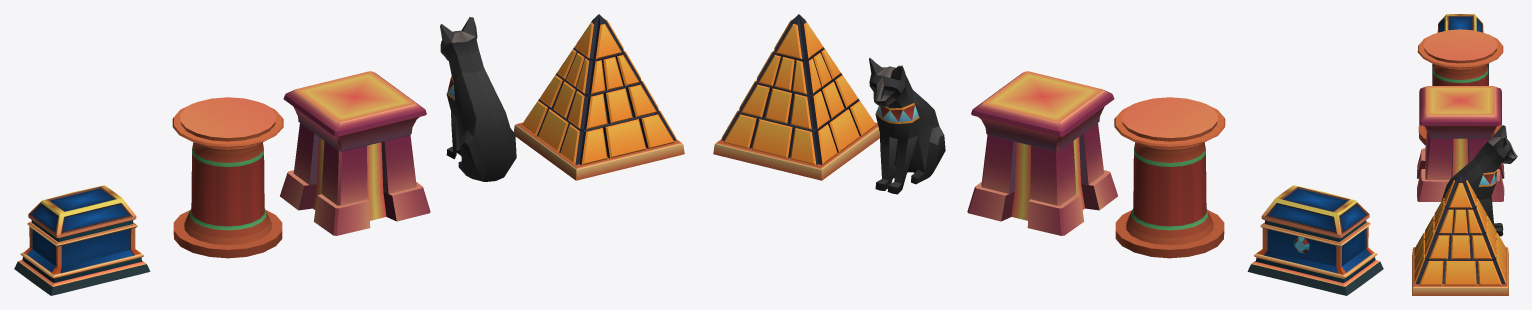
File: End_t2_a1.fbx
3 renders of one model, left to right at view 1: azimuth 30°, elevation 25°; view 2: azimuth 150°, elevation 25°; view 3: azimuth 270°, elevation 25°, orthographic. The views are drawn at different scales.
Visible parts, largest first — view 1: End_t2_a1_v5, End_t2_a1_v4, End_t2_a1_v3, End_t2_a1_v2, End_t2_a1_v1; view 2: End_t2_a1_v5, End_t2_a1_v4, End_t2_a1_v3, End_t2_a1_v2, End_t2_a1_v1; view 3: End_t2_a1_v4, End_t2_a1_v5, End_t2_a1_v3, End_t2_a1_v1, End_t2_a1_v2.
Part boxes in pixels (x1,y1,x2,y2): End_t2_a1_v5: (280, 71, 430, 235); End_t2_a1_v4: (513, 14, 684, 180); End_t2_a1_v3: (172, 97, 283, 258); End_t2_a1_v2: (14, 185, 150, 295); End_t2_a1_v1: (440, 17, 516, 181); End_t2_a1_v5: (967, 71, 1117, 235); End_t2_a1_v4: (713, 14, 879, 180); End_t2_a1_v3: (1114, 97, 1225, 258); End_t2_a1_v2: (1247, 185, 1383, 295); End_t2_a1_v1: (869, 58, 945, 194); End_t2_a1_v4: (1412, 175, 1508, 295); End_t2_a1_v5: (1417, 86, 1504, 201); End_t2_a1_v3: (1417, 29, 1503, 145); End_t2_a1_v1: (1441, 125, 1517, 236); End_t2_a1_v2: (1432, 14, 1488, 85).
Size of the model in its own units: 23.51 by 4.75 by 4.49.
